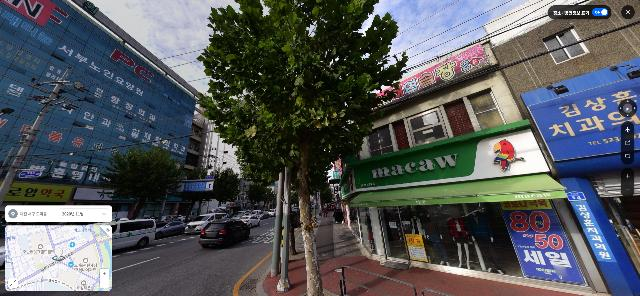other: (194, 0, 409, 296), (103, 147, 183, 220)
